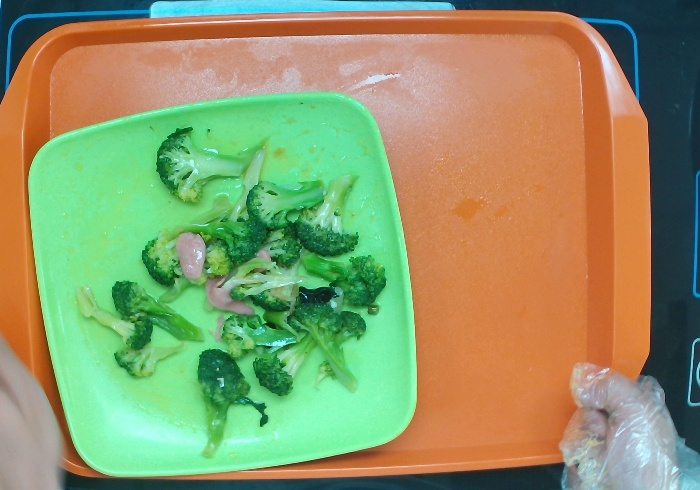ZNLD-Lv_Fang_Pan: (23, 88, 427, 477)
